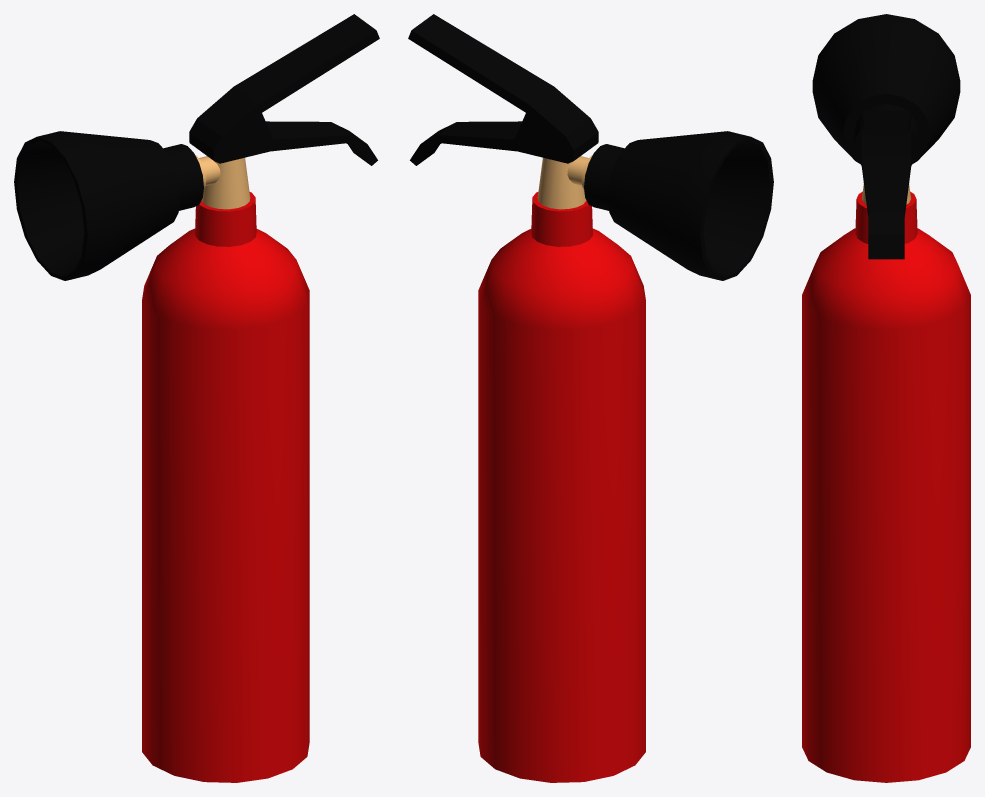
Rendered from fire extinguisher.fbx.
3 views of the same model, side by side, from view 1: azimuth 30°, elevation 25°; view 2: azimuth 150°, elevation 25°; view 3: azimuth 270°, elevation 25° (orthographic).
Parts seen in each view (by area): view 1: fire extinguisher; view 2: fire extinguisher; view 3: fire extinguisher.
Part boxes in pixels (<box>): fire extinguisher: <box>14,14,379,782</box>; fire extinguisher: <box>408,14,773,782</box>; fire extinguisher: <box>802,14,970,782</box>.
Size of what is drawn, in the model's own units: 36.94 by 76.7 by 16.98.
